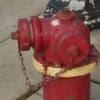Hydrant: (8, 6, 97, 100)
